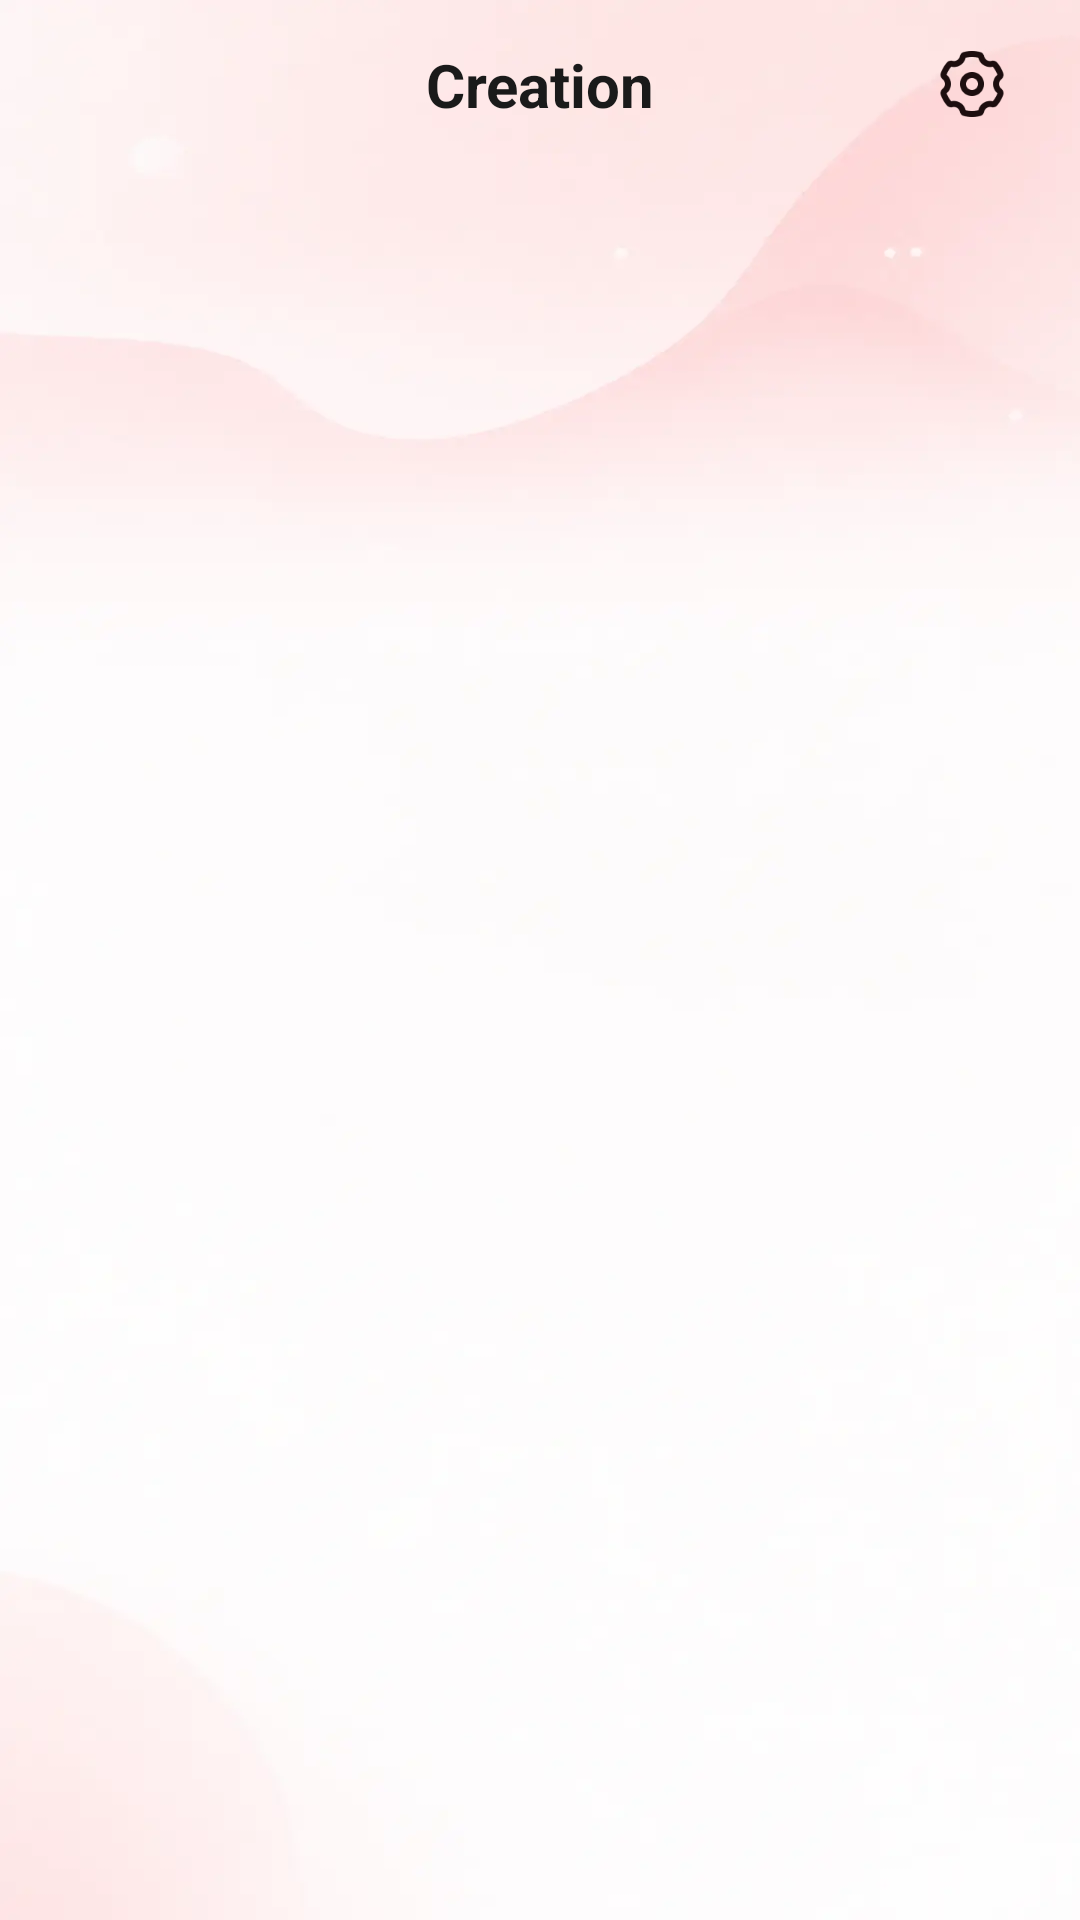

Icons on this 1080px×1920px Android screen, each with the point to tap as point (x, y):
Settings: point (972, 84)
